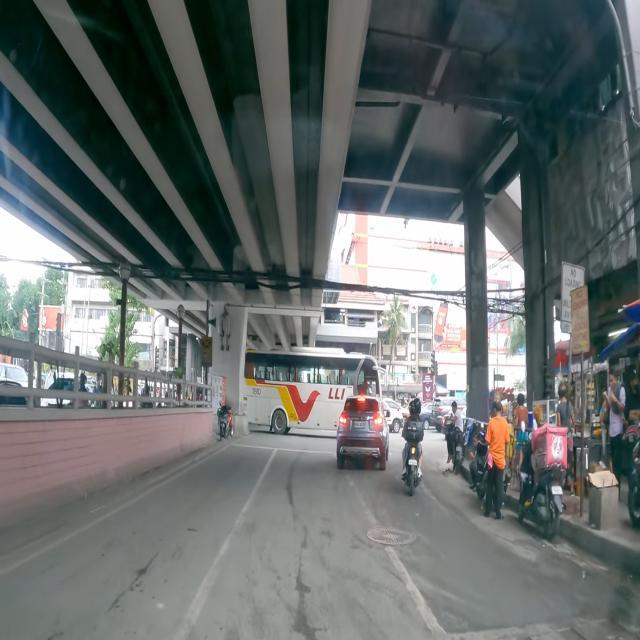bus: (242, 346, 391, 434)
car: (336, 394, 389, 472), (430, 396, 467, 432), (382, 398, 404, 434)
motorcycle: (515, 420, 568, 540), (473, 423, 511, 506), (400, 398, 424, 496), (218, 402, 234, 442)
